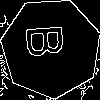B: (26, 23, 73, 59)
